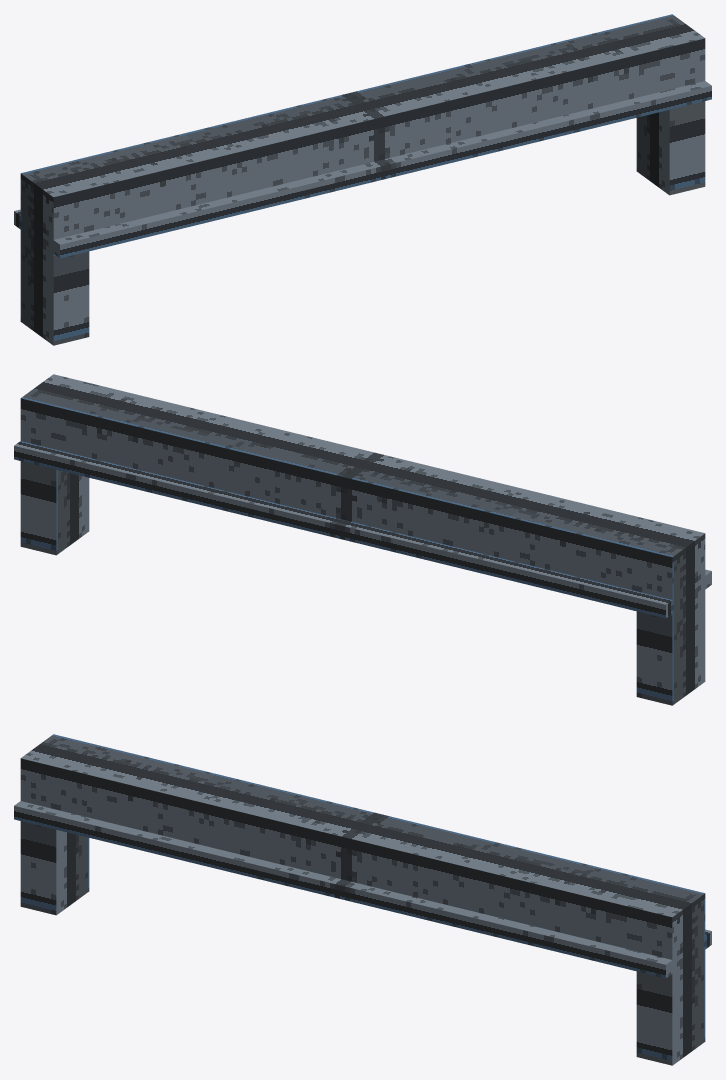
The model's file is arch_trim_ceiling.glb.
3 views of the same model, one above another, from view 1: azimuth 30°, elevation 25°; view 2: azimuth 150°, elevation 25°; view 3: azimuth 330°, elevation 25° (orthographic).
Parts seen in each view (by area): view 1: arch_trim_ceiling; view 2: arch_trim_ceiling; view 3: arch_trim_ceiling.
Part boxes in pixels (box(x1,y1,x2,y2)): arch_trim_ceiling: box(14, 14, 711, 345); arch_trim_ceiling: box(14, 374, 711, 705); arch_trim_ceiling: box(14, 734, 711, 1065).
Bounding box in the file's own units: 4 × 0.87 × 0.49.
Materials: 1 (1 with a texture image).
